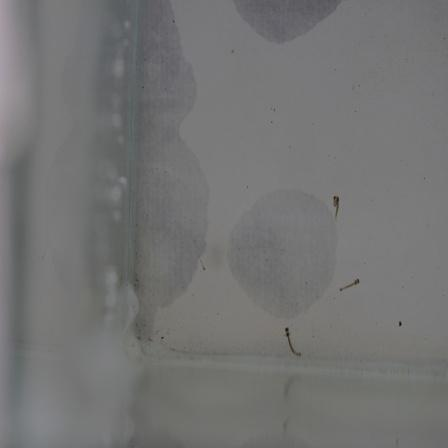Jentik-Nyamuk: (279, 323, 309, 360), (326, 190, 344, 225), (336, 272, 361, 296)
